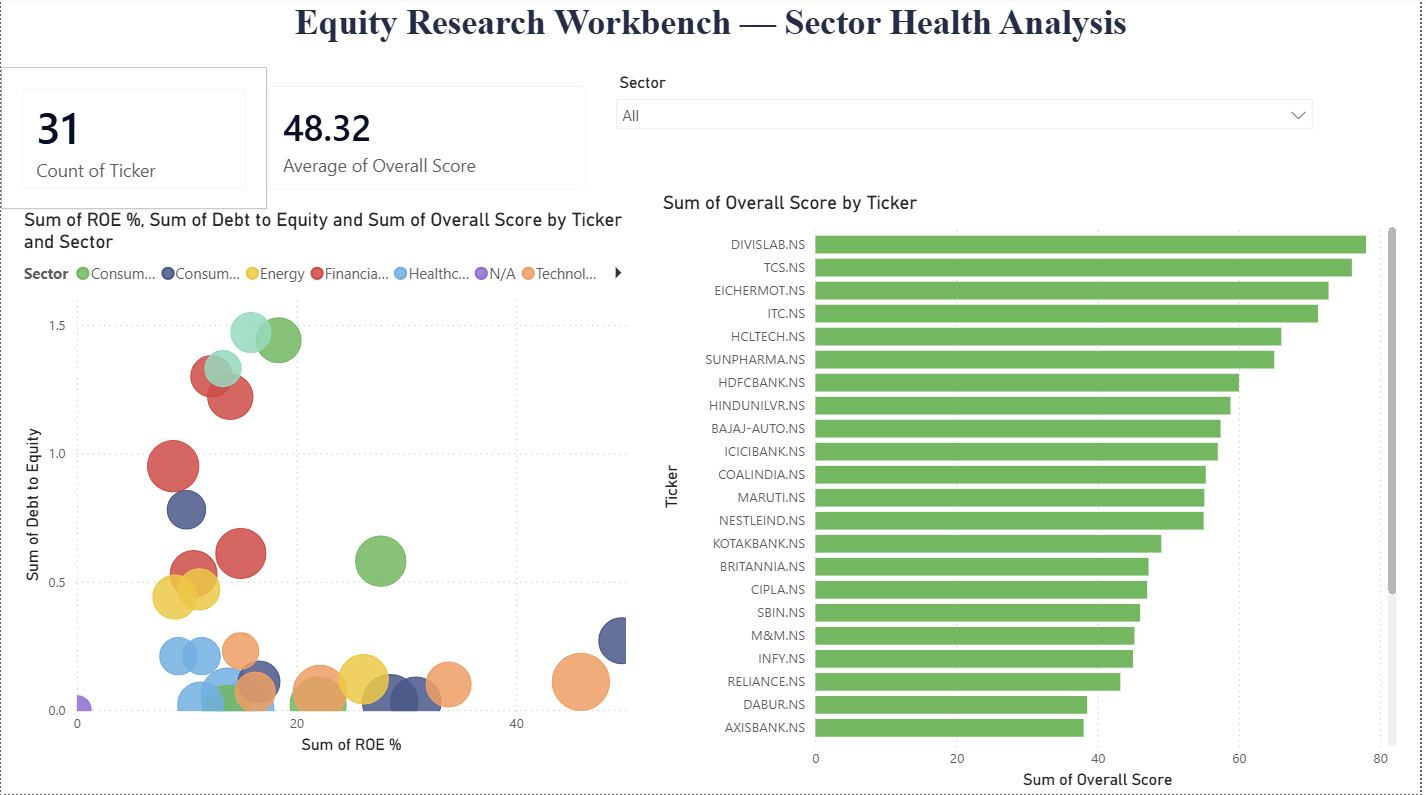

Layout of this report page (visuals, bound fields, positions):
{"tool":"powerbi","page":{"name":"Page 1","canvas":[1280,720],"ordinal":0},"visuals":[{"type":"clusteredBarChart","fields":{"Category":["powerbi_export.Ticker"],"Y":["Sum(powerbi_export.Overall Score)"]},"box":[592,176,672,544],"z":0},{"type":"scatterChart","fields":{"X":["Sum(powerbi_export.ROE %)"],"Y":["Sum(powerbi_export.Debt to Equity)"],"Size":["Sum(powerbi_export.Overall Score)"],"Series":["powerbi_export.Sector"],"Category":["powerbi_export.Ticker"]},"box":[16,192,560,496],"z":1000},{"type":"slicer","fields":{"Values":["powerbi_export.Sector"]},"box":[544,64,648,88],"z":2000},{"type":"cardVisual","fields":{"Data":["Avg(powerbi_export.Overall Score)"]},"box":[224,64,320,128],"z":3000},{"type":"cardVisual","fields":{"Data":["Count(powerbi_export.Ticker)"]},"box":[0,64,240,128],"z":4000},{"type":"textbox","box":[0,0,1280,64],"z":5000}]}

Visuals, with their boxes in screenshot pixels (x1, y1, x2, y2), scaled from the page's 1280x720 canvas onto the 1426x795 screenshot:
clusteredBarChart - powerbi_export.Ticker x Sum(powerbi_export.Overall Score): {"x1": 660, "y1": 194, "x2": 1408, "y2": 794}
scatterChart - Sum(powerbi_export.ROE %) x Sum(powerbi_export.Debt to Equity): {"x1": 18, "y1": 212, "x2": 642, "y2": 760}
slicer - powerbi_export.Sector: {"x1": 606, "y1": 71, "x2": 1328, "y2": 168}
cardVisual - Avg(powerbi_export.Overall Score): {"x1": 250, "y1": 71, "x2": 606, "y2": 212}
cardVisual - Count(powerbi_export.Ticker): {"x1": 0, "y1": 71, "x2": 267, "y2": 212}
textbox: {"x1": 0, "y1": 0, "x2": 1425, "y2": 71}
